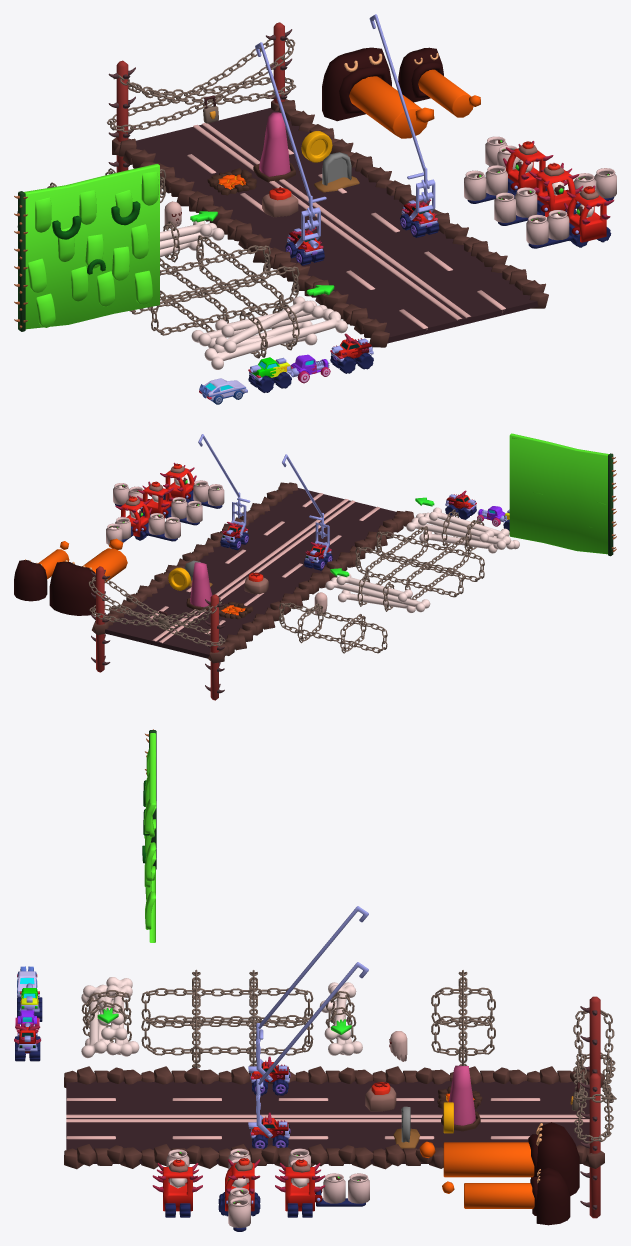
The model's file is carsShow.fbx.
The picture shows the model from 3 angles, top to bottom: view 1: azimuth 30°, elevation 25°; view 2: azimuth 150°, elevation 25°; view 3: azimuth 270°, elevation 25°; orthographic projection. The views are drawn at different scales.
Visible parts, largest first — view 1: Cube.137, Cube.096, Cube.097, Cube.055, Cube.056, Cube.005, Cube.007, Cylinder.075, Torus.011, Torus.004, Cube.009, Torus.012 (+31 smaller); view 2: Cube.137, Cube.096, Cube.055, Cube.056, Cube.005, Cube.009, Cube.007, Cube.016, Torus.011, Torus.002, Torus.003, Torus.012 (+19 smaller); view 3: Cube.137, Cube.056, Cube.055, Cube.007, Cylinder.075, Cube.005, Cube.009, Torus.005, Cube.016, Cylinder.078, Torus.006, Torus.012 (+16 smaller).
Boxes of the visible parts, left/top/right/bottom form: Cube.137: left=136, top=108, right=538, bottom=343; Cube.096: left=24, top=163, right=159, bottom=329; Cube.097: left=28, top=171, right=158, bottom=327; Cube.055: left=112, top=137, right=389, bottom=347; Cube.056: left=271, top=99, right=548, bottom=308; Cube.005: left=322, top=47, right=391, bottom=121; Cube.007: left=193, top=123, right=471, bottom=320; Cylinder.075: left=349, top=76, right=427, bottom=138; Torus.011: left=107, top=37, right=295, bottom=132; Torus.004: left=150, top=266, right=299, bottom=335; Cube.009: left=116, top=22, right=284, bottom=172; Torus.012: left=113, top=74, right=296, bottom=104; Cube.137: left=105, top=488, right=396, bottom=658; Cube.096: left=509, top=433, right=608, bottom=554; Cube.055: left=208, top=511, right=414, bottom=663; Cube.056: left=92, top=482, right=298, bottom=634; Cube.005: left=49, top=561, right=95, bottom=615; Cube.009: left=96, top=566, right=218, bottom=700; Cube.007: left=152, top=499, right=355, bottom=643; Cube.016: left=14, top=560, right=47, bottom=601; Torus.011: left=88, top=576, right=225, bottom=646; Torus.002: left=279, top=602, right=387, bottom=653; Torus.003: left=355, top=547, right=463, bottom=597; Torus.012: left=89, top=601, right=221, bottom=627; Cube.137: left=66, top=1081, right=589, bottom=1163; Cube.056: left=64, top=1144, right=604, bottom=1169; Cube.055: left=64, top=1066, right=604, bottom=1087; Cube.007: left=66, top=1114, right=589, bottom=1122; Cylinder.075: left=443, top=1142, right=534, bottom=1177; Cube.005: left=528, top=1122, right=579, bottom=1195; Cube.009: left=589, top=996, right=600, bottom=1218; Torus.005: left=141, top=1015, right=313, bottom=1055; Cube.016: left=530, top=1167, right=570, bottom=1225; Cylinder.078: left=464, top=1183, right=534, bottom=1208; Torus.006: left=141, top=987, right=313, bottom=1027; Torus.012: left=573, top=1010, right=614, bottom=1143.
Size of the model in its own units: 8355 by 3132 by 6764.
